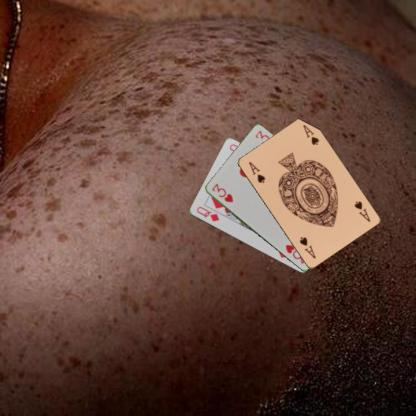3h: (209, 181, 234, 204)
As: (246, 159, 266, 184), (352, 198, 372, 223)
Qd: (194, 204, 221, 222)
